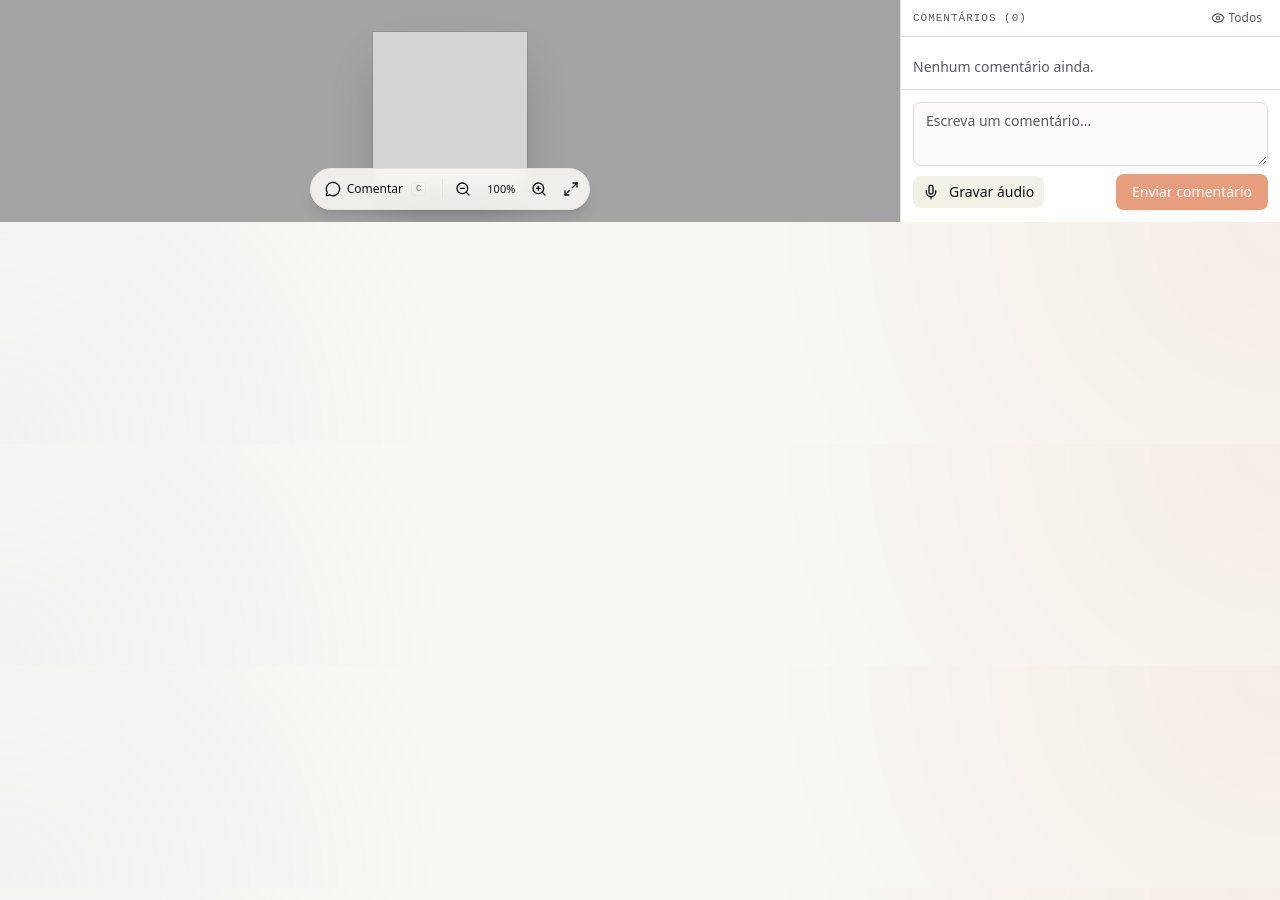
Test: FeedbackViewer › submits text feedback and shows toast
Type "Novo comentário" into the text box with placeholder "Escreva um comentário…".
click(1090, 134); type("Novo comentário")  # box [913,102,1268,166]
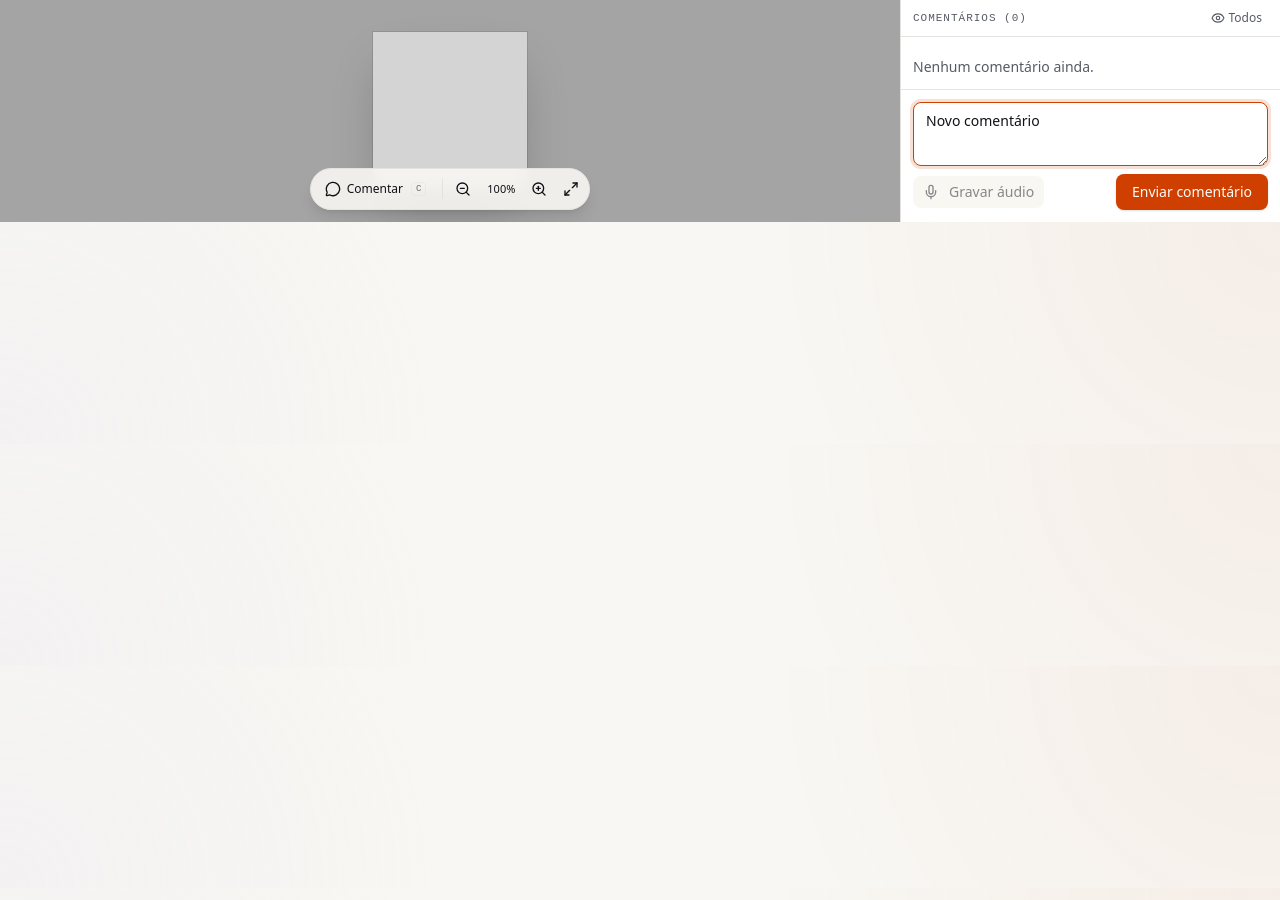
Click the button "Enviar comentário".
click(1192, 192)  # box [1116,174,1268,210]
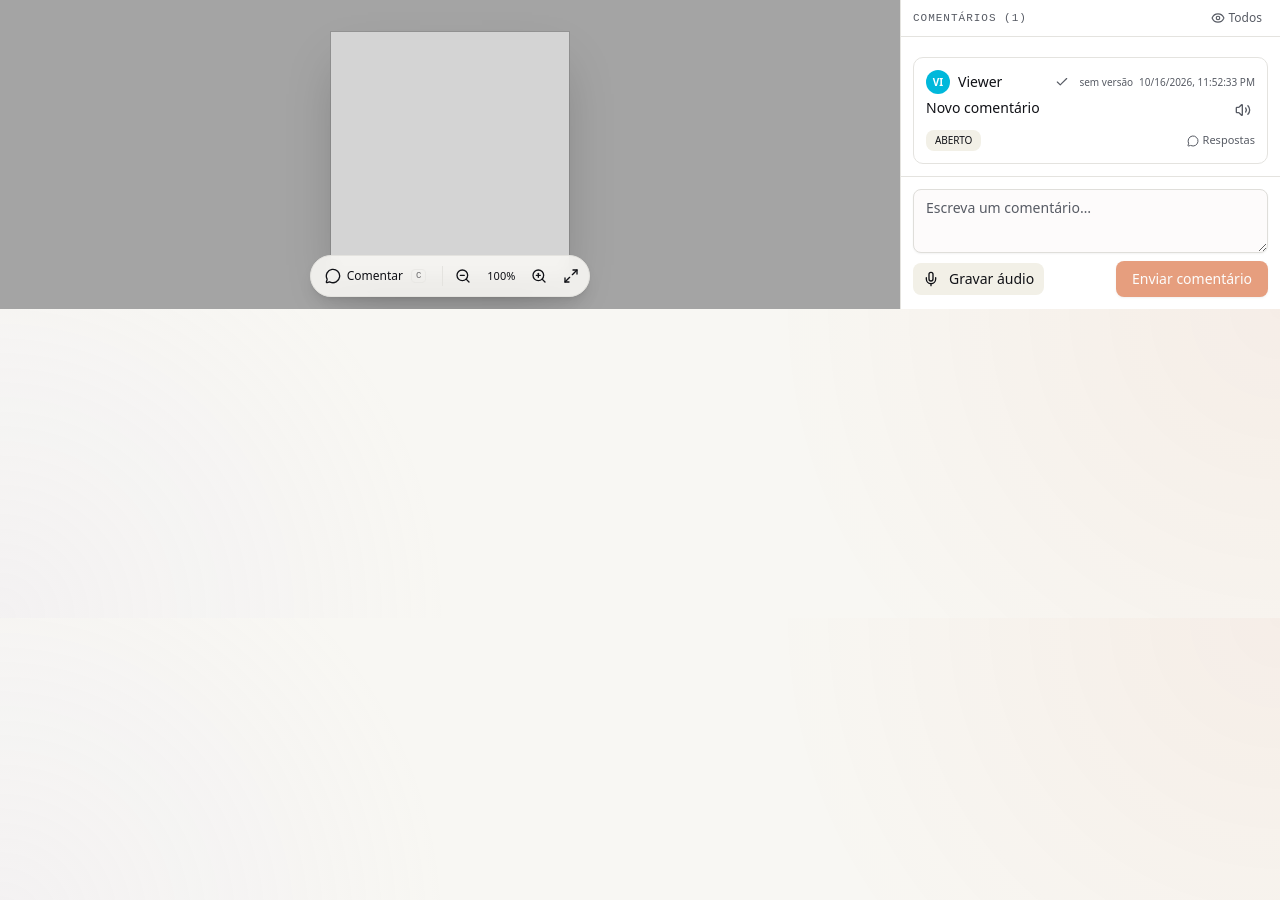
Now the text "Novo comentário" is shown, box [926,98,1040,117]
